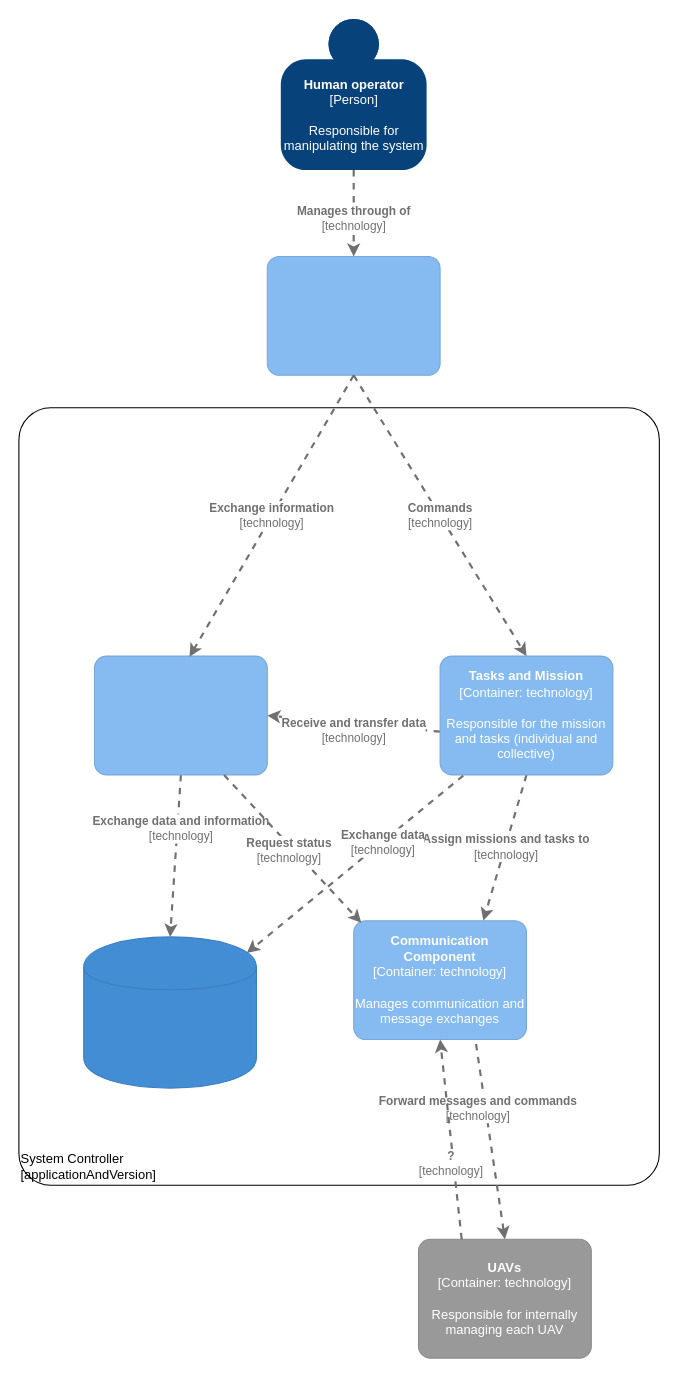
Some shapes in this 678 by 1377 pixel diagram are drawn without their labels. Here are the shapes that lost their labels. From the top down, the centre of each, then its label:
At (353,315): "WEB Application [Container: technology]".
At (180,715): "UAVs Status [Container: technology] Manages status and system information".
At (169,1012): "Database [Container: Technology] Store persistent data".
